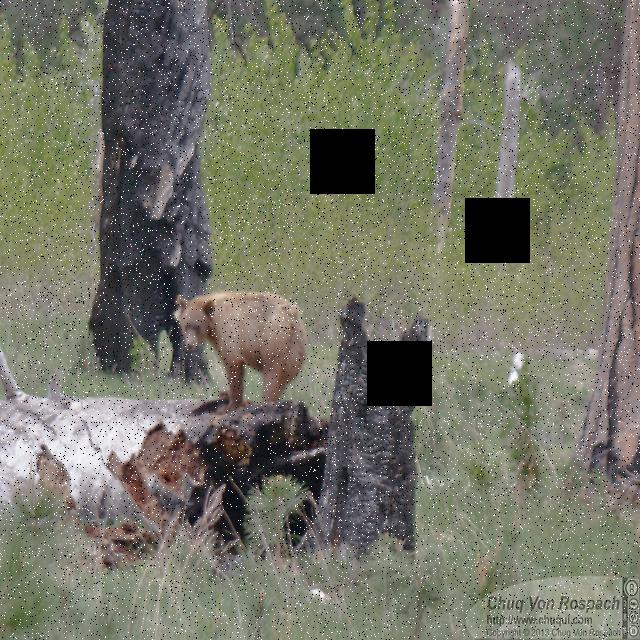Bear: (164, 267, 303, 403)
